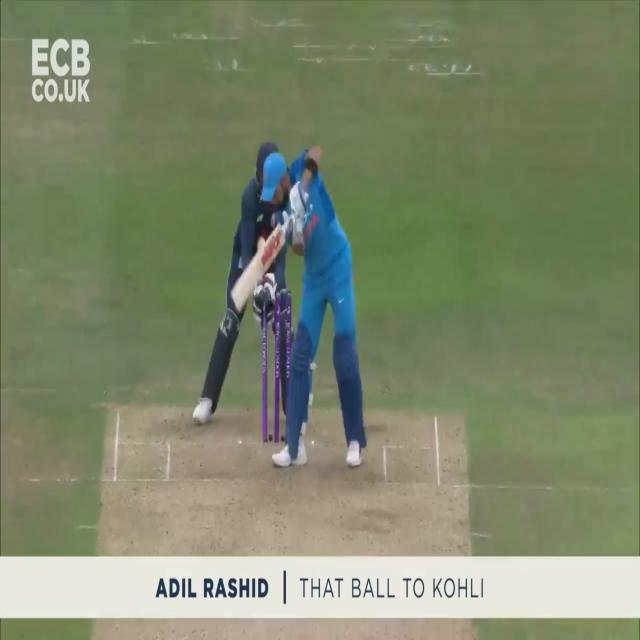cricketBall: (258, 237, 264, 249)
